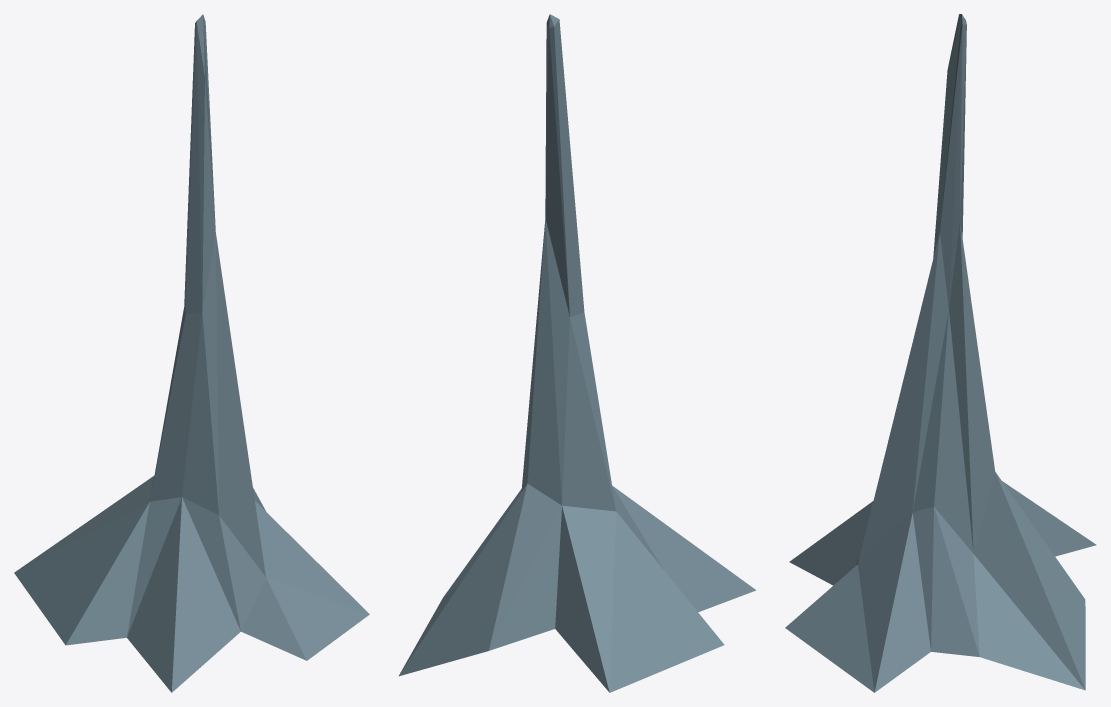
Rendered from Spike.fbx.
3 views of the same model, side by side, from view 1: azimuth 30°, elevation 25°; view 2: azimuth 150°, elevation 25°; view 3: azimuth 270°, elevation 25° (orthographic). The views are drawn at different scales.
Parts seen in each view (by area): view 1: mesh_10935628; view 2: mesh_10935628; view 3: mesh_10935628.
Boxes of the visible parts, x1,y1,x2,y2 form: mesh_10935628: [14, 14, 369, 692]; mesh_10935628: [399, 14, 756, 692]; mesh_10935628: [785, 14, 1096, 692].
Bounding box in the file's own units: 66.53 × 141 × 63.01.
